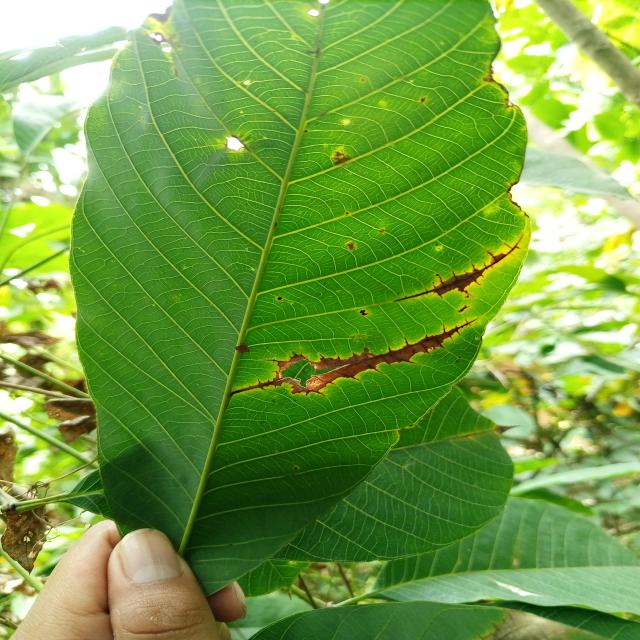Corynespora: (230, 318, 478, 398), (394, 232, 525, 302)
